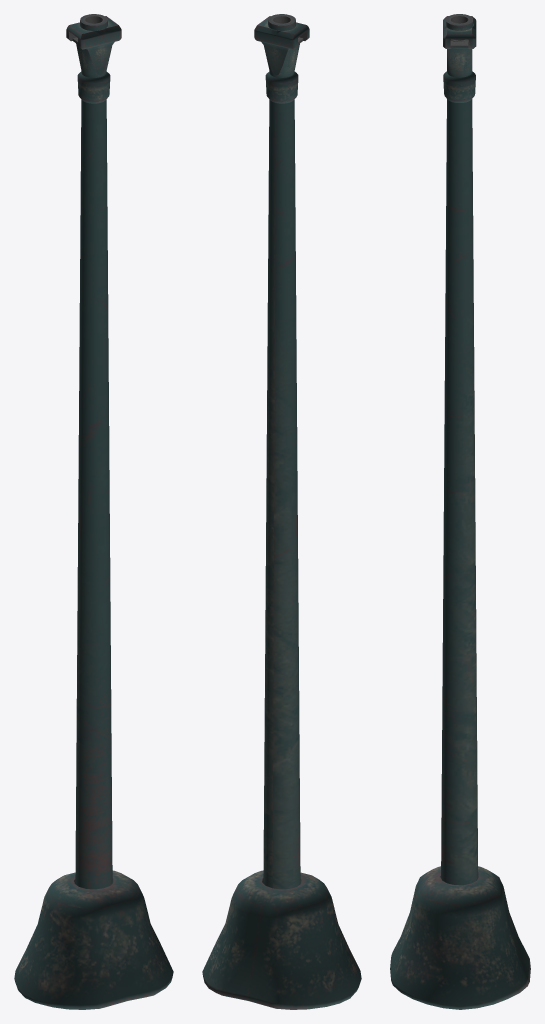
The model's file is Gun_02.glb.
The picture shows the model from 3 angles, left to right: view 1: azimuth 30°, elevation 25°; view 2: azimuth 150°, elevation 25°; view 3: azimuth 270°, elevation 25°; orthographic projection.
Visible parts, largest first — view 1: set_0_group_0; view 2: set_0_group_0; view 3: set_0_group_0.
Boxes of the visible parts, bbox=[...] form: set_0_group_0: bbox=[14, 14, 173, 1009]; set_0_group_0: bbox=[202, 14, 361, 1009]; set_0_group_0: bbox=[390, 14, 530, 1009].
Size of the model in its own units: 0.9226 by 6.05 by 0.8045.
Materials: 1 (1 with a texture image).
